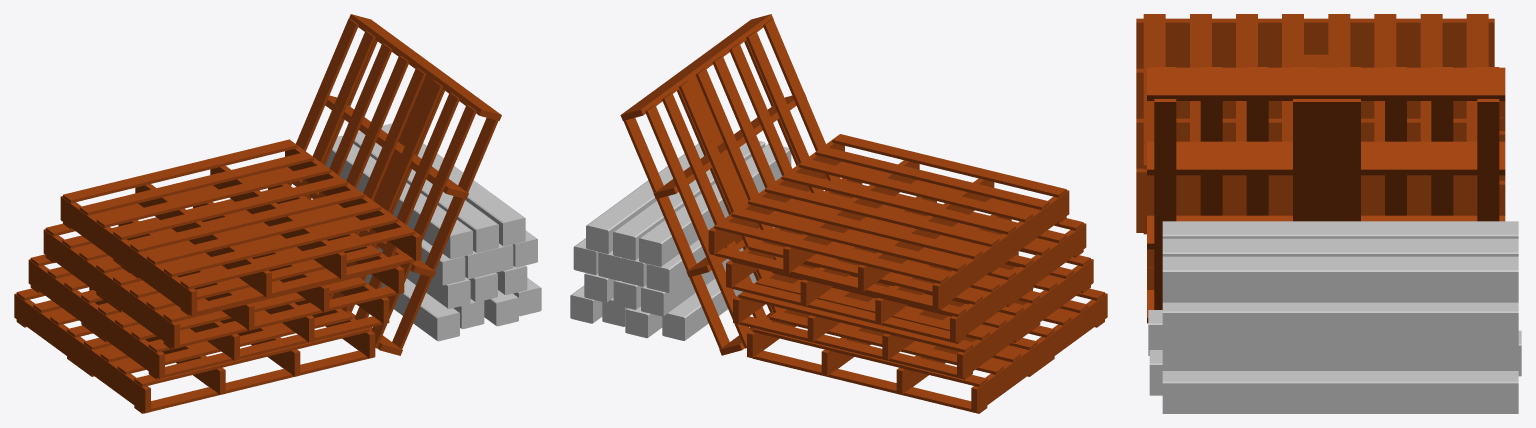
The model's file is wood.FBX.
3 views of the same model, side by side, from view 1: azimuth 30°, elevation 25°; view 2: azimuth 150°, elevation 25°; view 3: azimuth 270°, elevation 25° (orthographic). The views are drawn at different scales.
Parts seen in each view (by area): view 1: Pallets.004, Pallets.001, Pallets.003, Pallets, Pallets.002, Wood.013, Wood.011, Wood.012, Wood, Wood.006, Wood.002, Wood.007 (+7 smaller); view 2: Pallets.004, Pallets.001, Pallets.003, Pallets.002, Pallets, Wood.013, Wood.011, Wood.012, Wood, Wood.006, Wood.007, Wood.001 (+7 smaller); view 3: Pallets.001, Pallets.004, Wood.011, Wood.003, Wood.010, Wood.004, Wood.012, Wood.013, Pallets.003, Wood.002, Wood, Pallets.002.
Part boxes in pixels (x1,y1,x2,y2): Pallets.004: (60,139,421,316); Pallets.001: (287,14,501,355); Pallets.003: (43,183,404,349); Pallets: (14,287,375,413); Pallets.002: (28,254,389,379); Wood.013: (325,135,472,259); Wood.011: (381,123,525,246); Wood.012: (353,131,498,252); Wood: (365,274,459,341); Wood.006: (378,247,470,308); Wood.002: (484,290,518,326); Wood.007: (420,239,465,285); Pallets.004: (708,134,1069,310); Pallets.001: (620,14,840,355); Pallets.003: (726,178,1086,343); Pallets.002: (733,250,1093,379); Pallets: (747,288,1107,413); Wood.013: (639,144,791,266); Wood.011: (586,143,703,253); Wood.012: (613,140,765,260); Wood: (662,271,756,340); Wood.006: (641,227,774,316); Wood.007: (646,239,705,292); Wood.001: (625,306,662,338); Pallets.001: (1147,67,1505,323); Pallets.004: (1136,14,1494,205); Wood.011: (1162,256,1518,302); Wood.003: (1162,371,1518,413); Wood.010: (1162,302,1518,343); Wood.004: (1162,344,1518,370); Wood.012: (1162,238,1518,256); Wood.013: (1162,221,1518,238); Pallets.003: (1136,55,1494,234); Wood.002: (1149,350,1162,395); Wood: (1148,310,1162,355); Pallets.002: (1147,101,1505,266).
Bounding box in the file's own units: 355 × 192 × 215.
